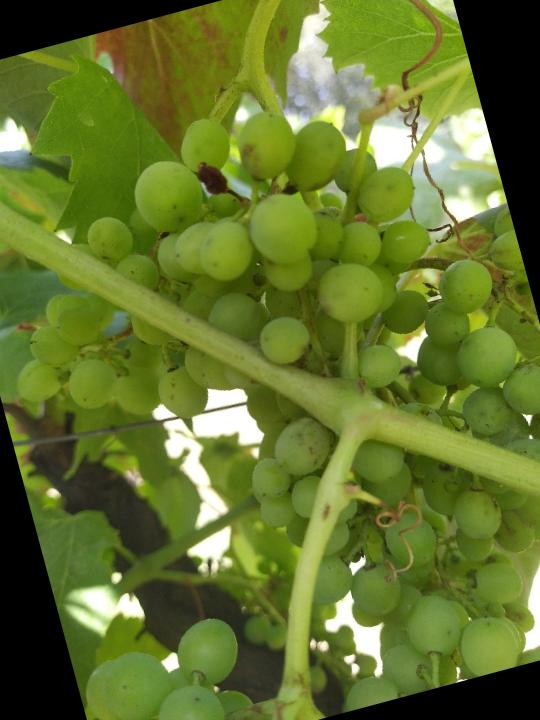grape: (0, 48, 540, 720)
